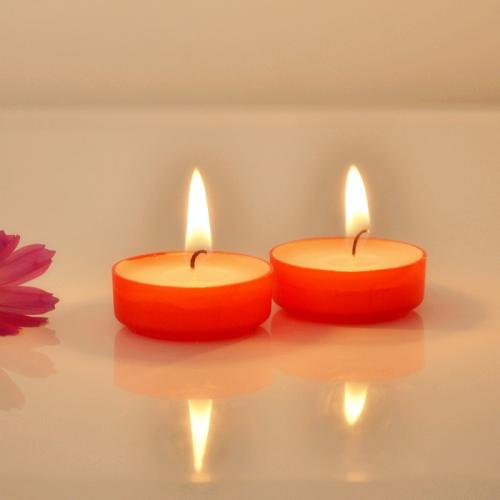Fire: (184, 167, 216, 255), (339, 164, 372, 247), (186, 397, 218, 476), (340, 377, 371, 429)
